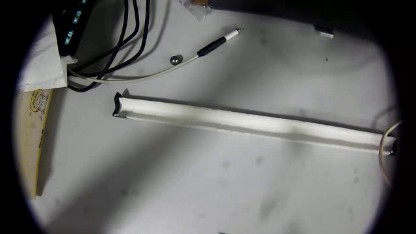gangzhu: (167, 54, 180, 66)
